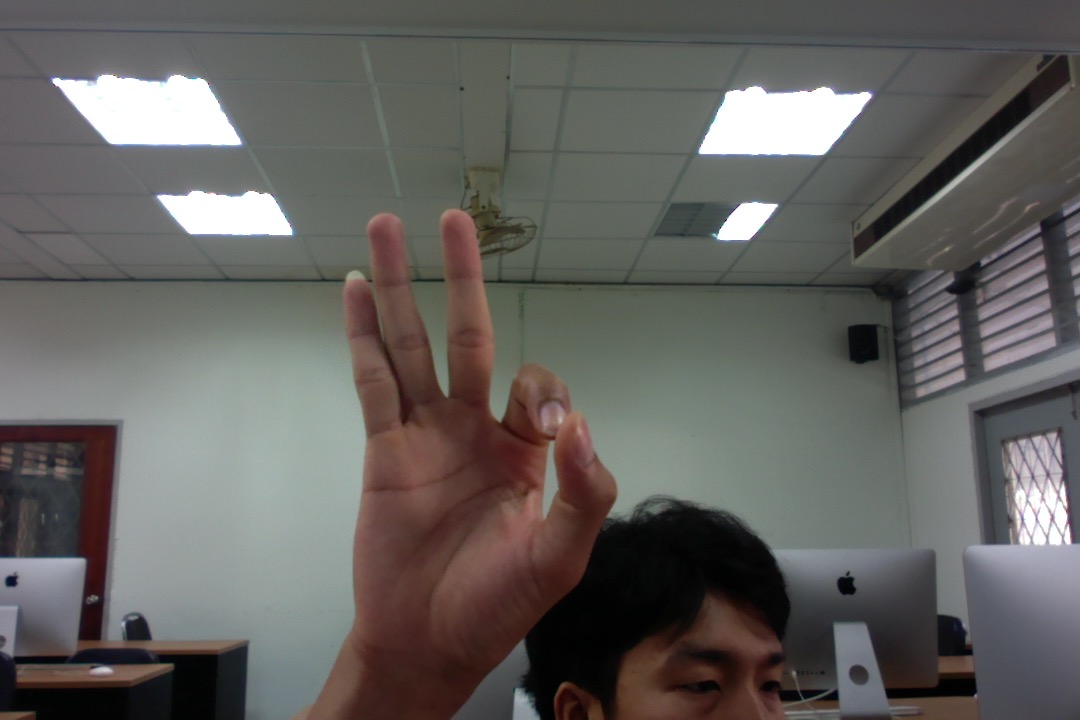for: (324, 193, 624, 659)
